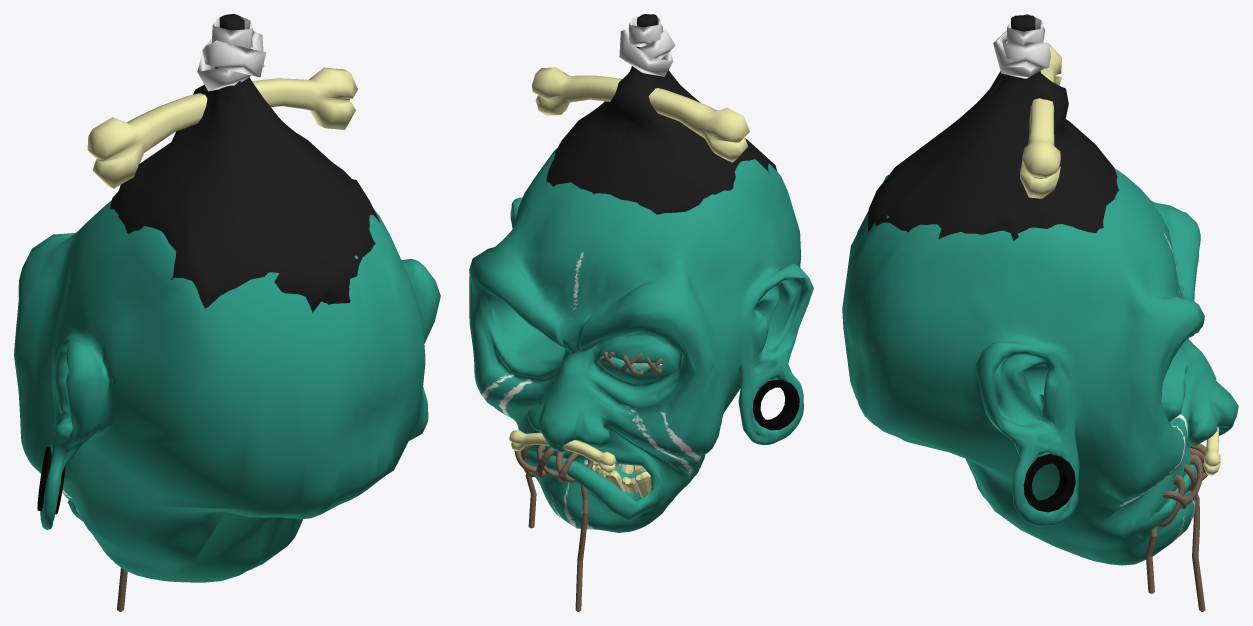
File: shrunkenHead.glb
The picture shows the model from 3 angles, left to right: view 1: azimuth 30°, elevation 25°; view 2: azimuth 150°, elevation 25°; view 3: azimuth 270°, elevation 25°; orthographic projection. The views are drawn at different scales.
Visible parts, largest first — view 1: head, hair, boneHair, knot2, knot1, knot3, stretcher1; view 2: head, hair, boneHair, stretcher1, boneNose, knot1, stringend, knot3, knot2; view 3: head, hair, boneHair, stretcher2, knot1, stringend, knot2, knot3, boneNose.
Part boxes in pixels (x1,y1,x2,y2): head: [14, 200, 440, 582]; hair: [110, 14, 380, 312]; boneHair: [87, 67, 357, 188]; knot2: [202, 39, 266, 77]; knot1: [197, 31, 264, 91]; knot3: [211, 14, 253, 48]; stretcher1: [37, 447, 65, 514]; head: [469, 148, 813, 532]; hair: [546, 14, 777, 214]; boneHair: [531, 67, 749, 162]; stretcher1: [752, 379, 799, 430]; boneNose: [509, 430, 616, 473]; knot1: [619, 28, 673, 76]; stringend: [575, 460, 593, 611]; knot3: [629, 16, 662, 47]; knot2: [629, 28, 675, 58]; head: [842, 168, 1238, 565]; hair: [868, 15, 1118, 240]; boneHair: [1020, 44, 1061, 198]; stretcher2: [1023, 453, 1075, 512]; knot1: [1003, 42, 1050, 68]; stringend: [1192, 490, 1205, 611]; knot2: [993, 30, 1049, 78]; knot3: [1007, 14, 1044, 44]; boneNose: [1203, 427, 1220, 475].
Size of the model in its own units: 2.41 by 3.97 by 2.38.
Materials: 5 (1 with a texture image).
